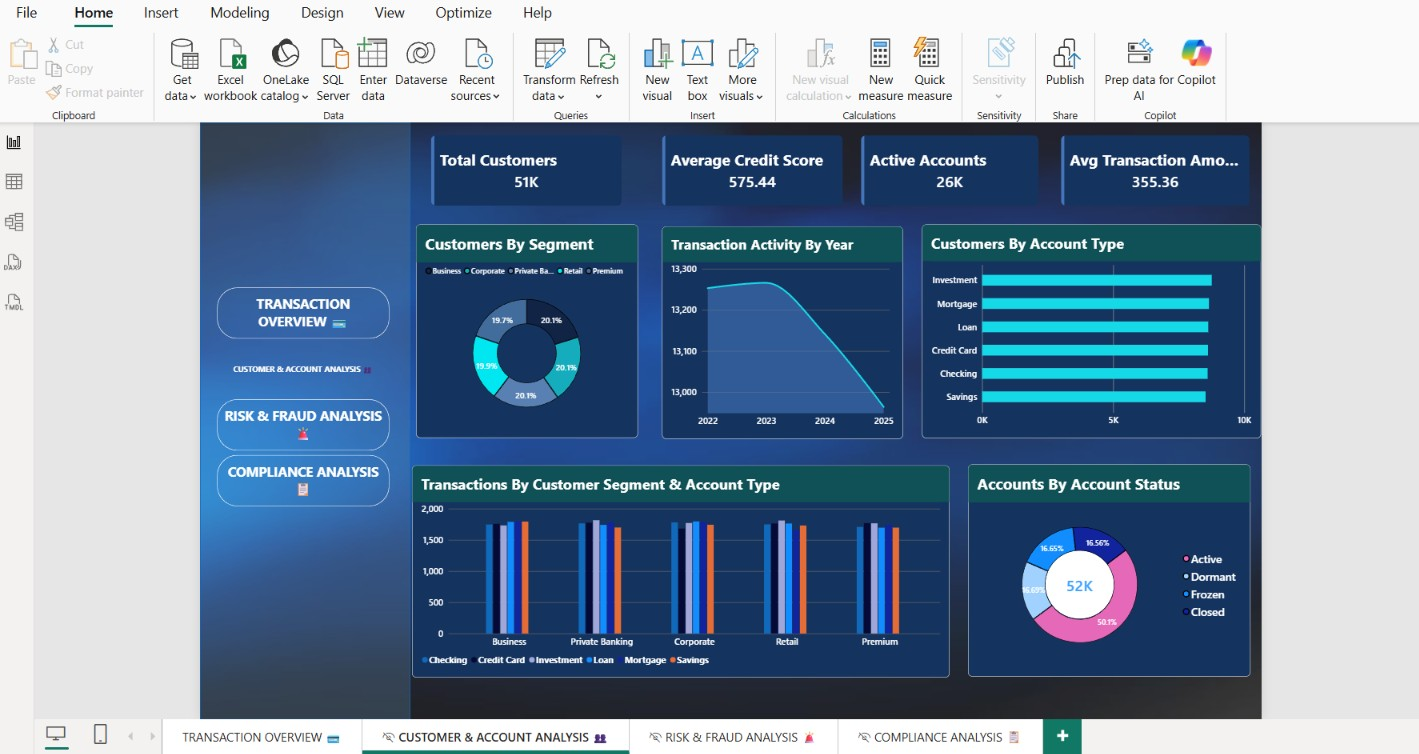

Layout of this report page (visuals, bound fields, positions):
{"tool":"powerbi","page":{"name":"CUSTOMER & ACCOUNT ANALYSIS 👥","canvas":[1920,1080],"ordinal":1},"visuals":[{"type":"cardVisual","fields":{"Data":["finance_banking_transactions_2022_2025 (1).Total Customers"]},"box":[417.8,22.6,345.8,127.6],"z":1},{"type":"cardVisual","fields":{"Data":["finance_banking_transactions_2022_2025 (1).Average Credit Score"]},"box":[835.7,22.6,327.3,127.6],"z":2},{"type":"cardVisual","fields":{"Data":["finance_banking_transactions_2022_2025 (1).Active Accounts"]},"box":[1195.9,22.6,321.1,127.6],"z":3},{"type":"cardVisual","fields":{"Data":["finance_banking_transactions_2022_2025 (1).Avg Transaction Amount per Customer"]},"box":[1558.2,22.6,341.7,127.6],"z":4},{"type":"donutChart","title":"Customers By Segment","fields":{"Category":["finance_banking_transactions_2022_2025 (1).customer_segment"],"Y":["finance_banking_transactions_2022_2025 (1).Total Customers"]},"box":[391.1,185.2,401.3,386.2],"z":5},{"type":"clusteredBarChart","title":"Customers By Account Type","fields":{"Category":["finance_banking_transactions_2022_2025 (1).account_type"],"Y":["finance_banking_transactions_2022_2025 (1).Total Customers"]},"box":[1307,185.2,613.4,387],"z":6},{"type":"donutChart","title":"Accounts By Account Status","fields":{"Category":["finance_banking_transactions_2022_2025 (1).account_status"],"Y":["finance_banking_transactions_2022_2025 (1).Total Accounts"]},"box":[1389.4,619.6,511.3,384],"z":7},{"type":"clusteredColumnChart","title":"Transactions By Customer Segment & Account Type","fields":{"Category":["finance_banking_transactions_2022_2025 (1).customer_segment"],"Series":["finance_banking_transactions_2022_2025 (1).account_type"],"Y":["finance_banking_transactions_2022_2025 (1).Total Transactions"]},"box":[382.8,621.6,972.9,384],"z":8},{"type":"lineChart","title":"Transaction Activity  By Year","fields":{"Category":["finance_banking_transactions_2022_2025 (1).transaction_date_clean.Variation.Date Hierarchy.Year"],"Y":["finance_banking_transactions_2022_2025 (1).Total Transactions"]},"box":[835.7,187.3,436.4,384.9],"z":9},{"type":"shape","box":[0,0,380.8,1080.6],"z":10},{"type":"pageNavigator","box":[30.9,298.5,312.9,399.3],"z":11}]}

Visuals, with their boxes on the page's 1920x1080 design canvas (x1, y1, x2, y2). These are canvas units, not pixel positions in the 1419x754 screenshot, which may show the page scaled, cropped or inside an application window:
cardVisual - finance_banking_transactions_2022_2025 (1).Total Customers: 418/23/764/150
cardVisual - finance_banking_transactions_2022_2025 (1).Average Credit Score: 836/23/1163/150
cardVisual - finance_banking_transactions_2022_2025 (1).Active Accounts: 1196/23/1517/150
cardVisual - finance_banking_transactions_2022_2025 (1).Avg Transaction Amount per Customer: 1558/23/1900/150
"Customers By Segment" donutChart: 391/185/792/571
"Customers By Account Type" clusteredBarChart: 1307/185/1920/572
"Accounts By Account Status" donutChart: 1389/620/1901/1004
"Transactions By Customer Segment & Account Type" clusteredColumnChart: 383/622/1356/1006
"Transaction Activity  By Year" lineChart: 836/187/1272/572
shape: 0/0/381/1081
pageNavigator: 31/298/344/698
